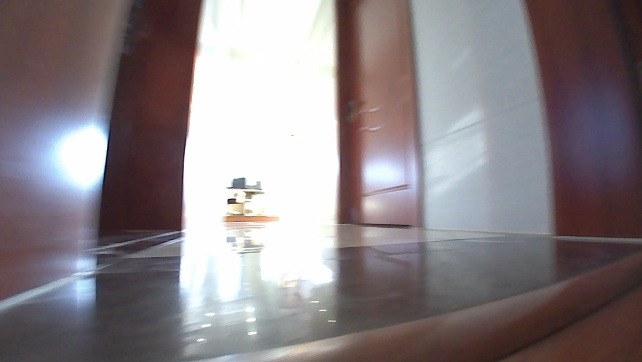door_anno: (339, 0, 419, 233)
